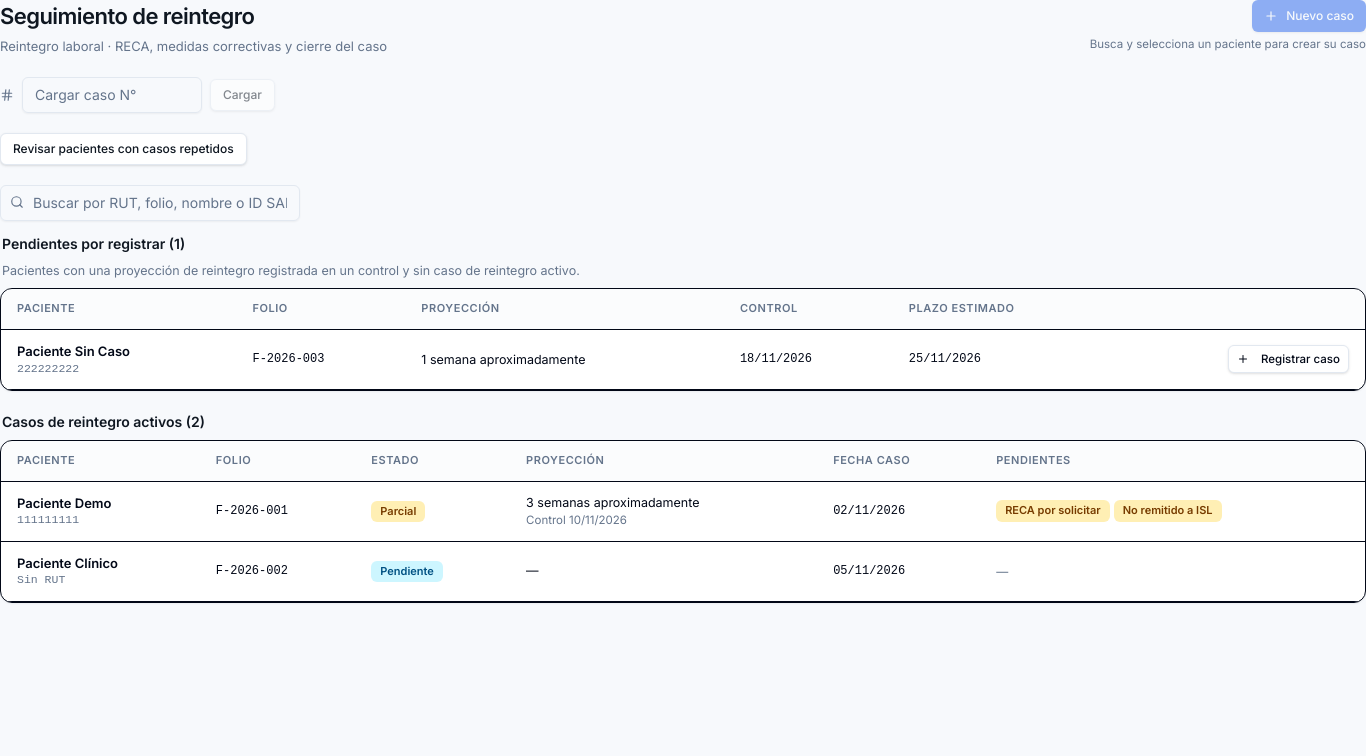
Scenario: Lista global de la pestaña Reintegro › al pinchar un caso activo lo carga
Click the row with test id "activo-7" at (683, 511), box [1, 481, 1365, 541]
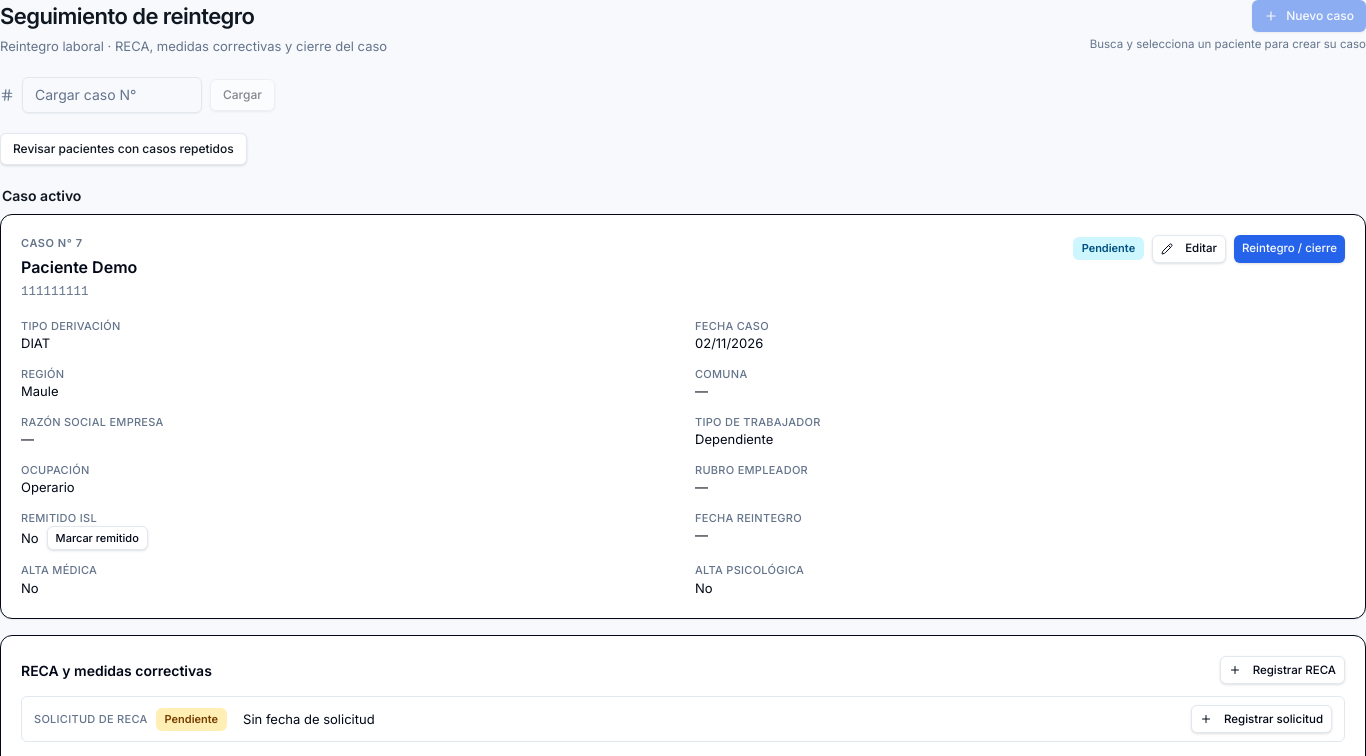
Result: the text "Caso N° 7" is shown at [21, 236, 83, 250]
